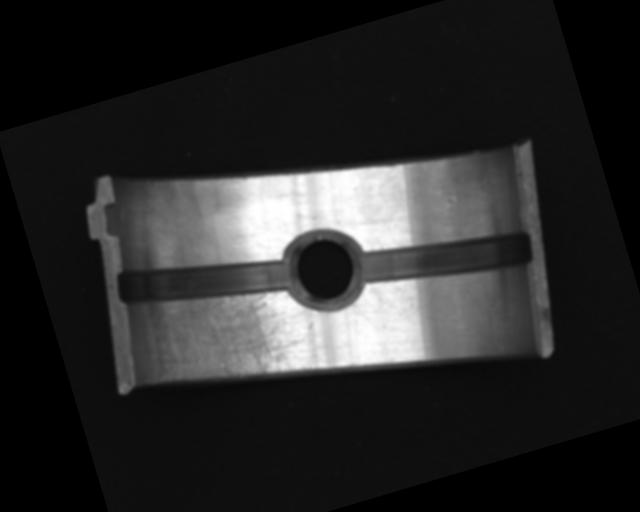gap: (110, 224, 295, 338), (360, 207, 538, 309)
hole: (275, 225, 369, 313)
scratch: (122, 264, 307, 412)
